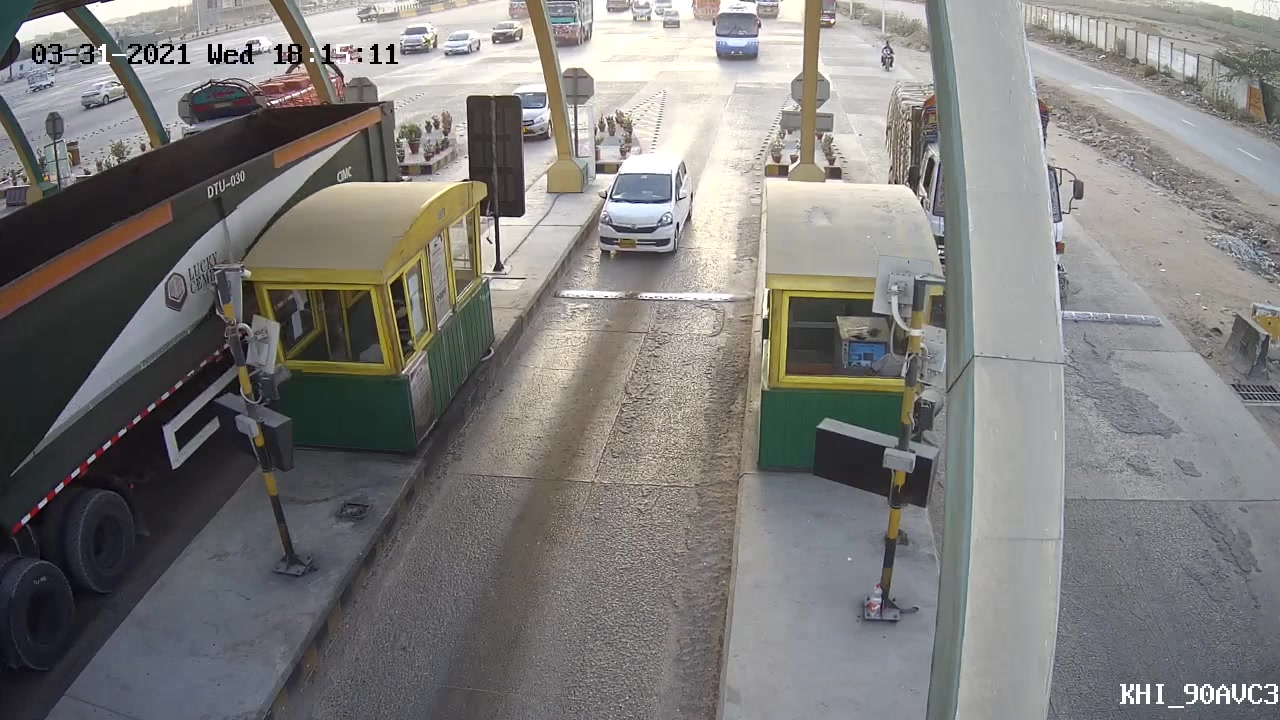F1: (590, 147, 706, 261)
